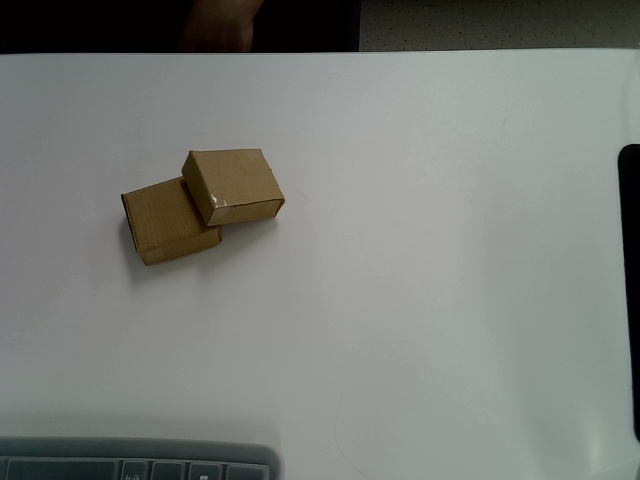normal: (121, 176, 223, 267), (181, 148, 285, 228)
